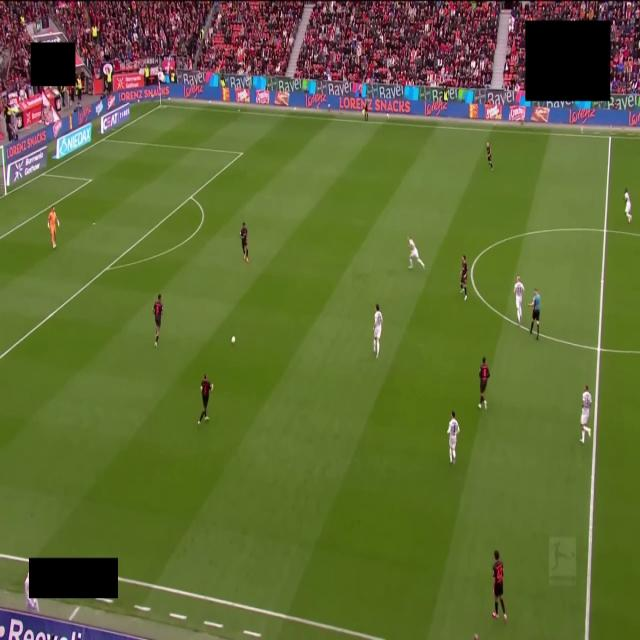ball: (231, 336, 235, 343)
player: (492, 551, 506, 623), (198, 374, 212, 424), (448, 411, 459, 464), (581, 385, 591, 443), (153, 295, 163, 347), (479, 358, 489, 408), (408, 238, 424, 269), (47, 208, 59, 248), (514, 277, 524, 324), (374, 304, 382, 358), (240, 222, 249, 263), (460, 256, 467, 300), (625, 190, 631, 223), (486, 143, 493, 170)
referee: (529, 289, 540, 339)
